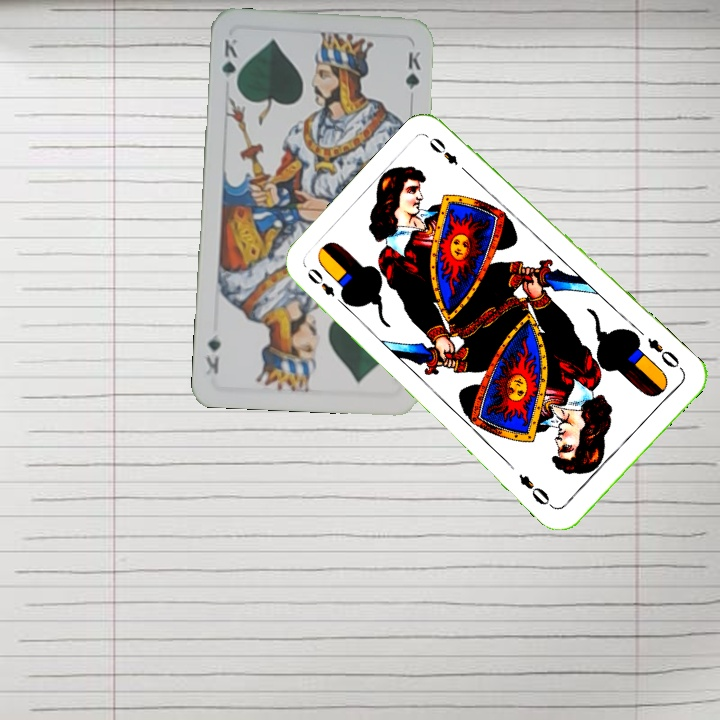EO: (303, 264, 350, 310), (643, 333, 682, 371)
GK: (217, 34, 241, 92)
